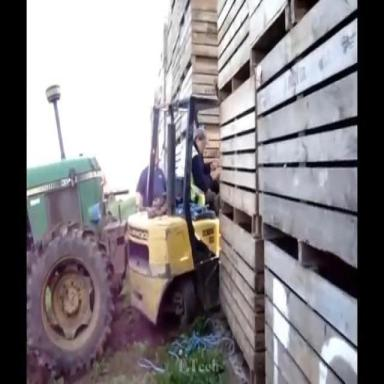forklift: (127, 94, 230, 330)
